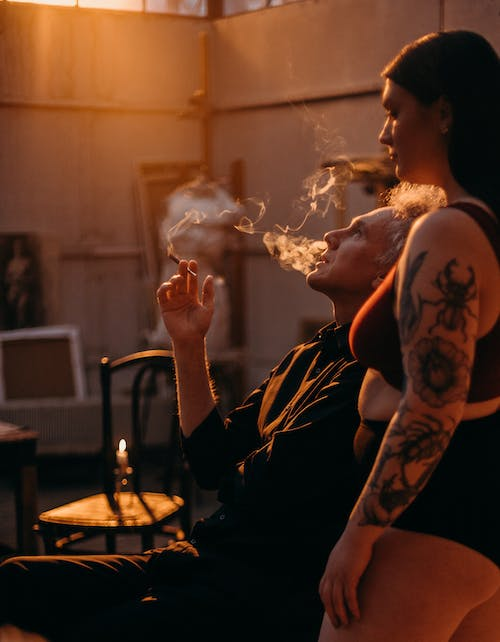cigarette: (165, 250, 199, 280)
